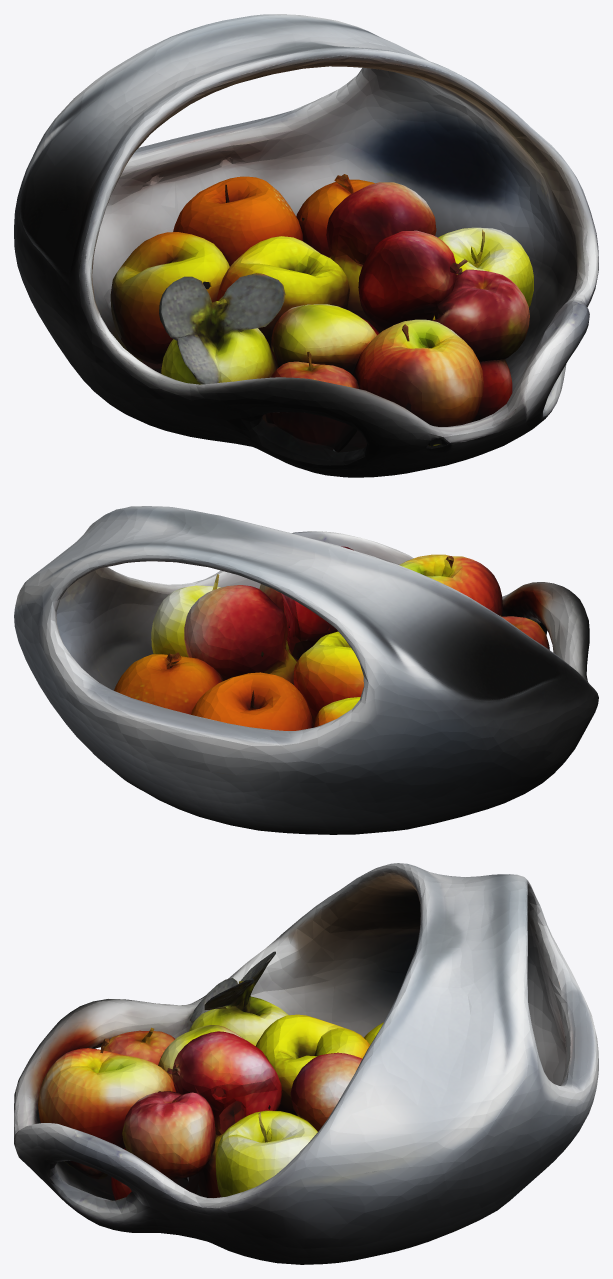
The model's file is ceramic-fruit-basket-futuristic.jpeg.glb.
The picture shows the model from 3 angles, top to bottom: view 1: azimuth 30°, elevation 25°; view 2: azimuth 150°, elevation 25°; view 3: azimuth 270°, elevation 25°; orthographic projection.
Parts seen in each view (by area): view 1: world; view 2: world; view 3: world.
Boxes of the visible parts, x1,y1,x2,y2 form: world: (14,14,598,477); world: (14,506,598,834); world: (14,863,598,1264).
Size of the model in its own units: 0.9949 by 0.5764 by 0.9999.
Materials: 1 (1 with a texture image).
